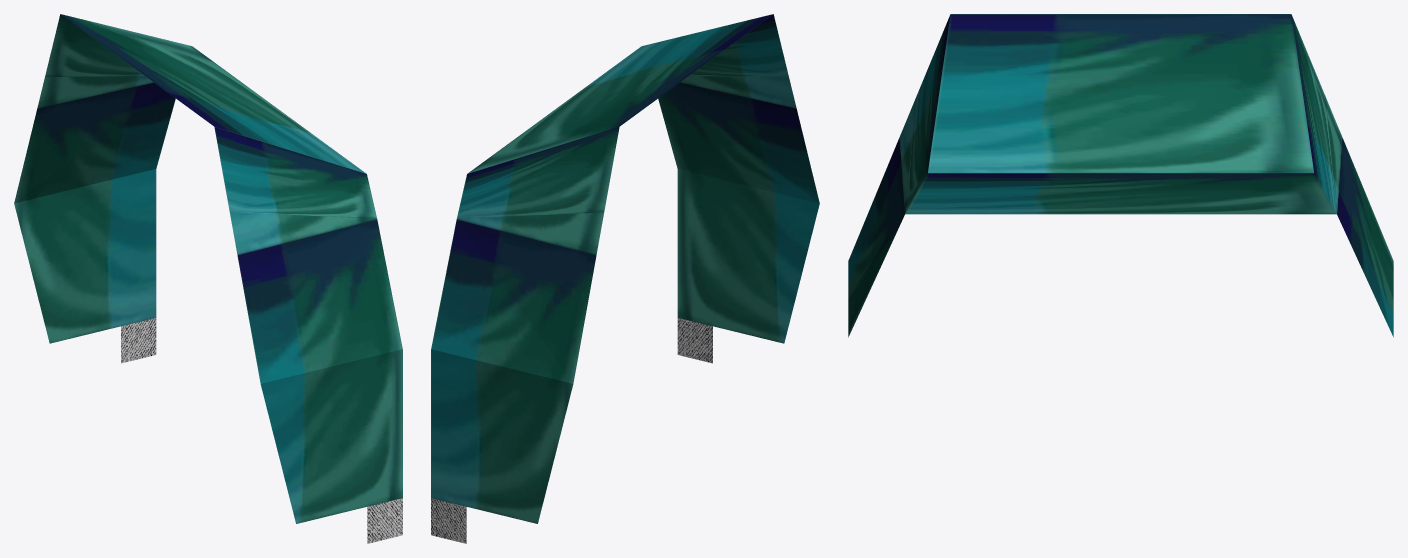
File: gallery_wallS.dae
3 views of the same model, side by side, from view 1: azimuth 30°, elevation 25°; view 2: azimuth 150°, elevation 25°; view 3: azimuth 270°, elevation 25° (orthographic). The views are drawn at different scales.
Parts seen in each view (by area): view 1: gallery_wallS; view 2: gallery_wallS; view 3: gallery_wallS.
Part boxes in pixels (box(x1,y1,x2,y2)): gallery_wallS: box(14, 14, 402, 543); gallery_wallS: box(431, 14, 819, 543); gallery_wallS: box(848, 14, 1393, 337).
Size of the model in its own units: 64 by 176 by 192.
Materials: 2 (2 with a texture image).
